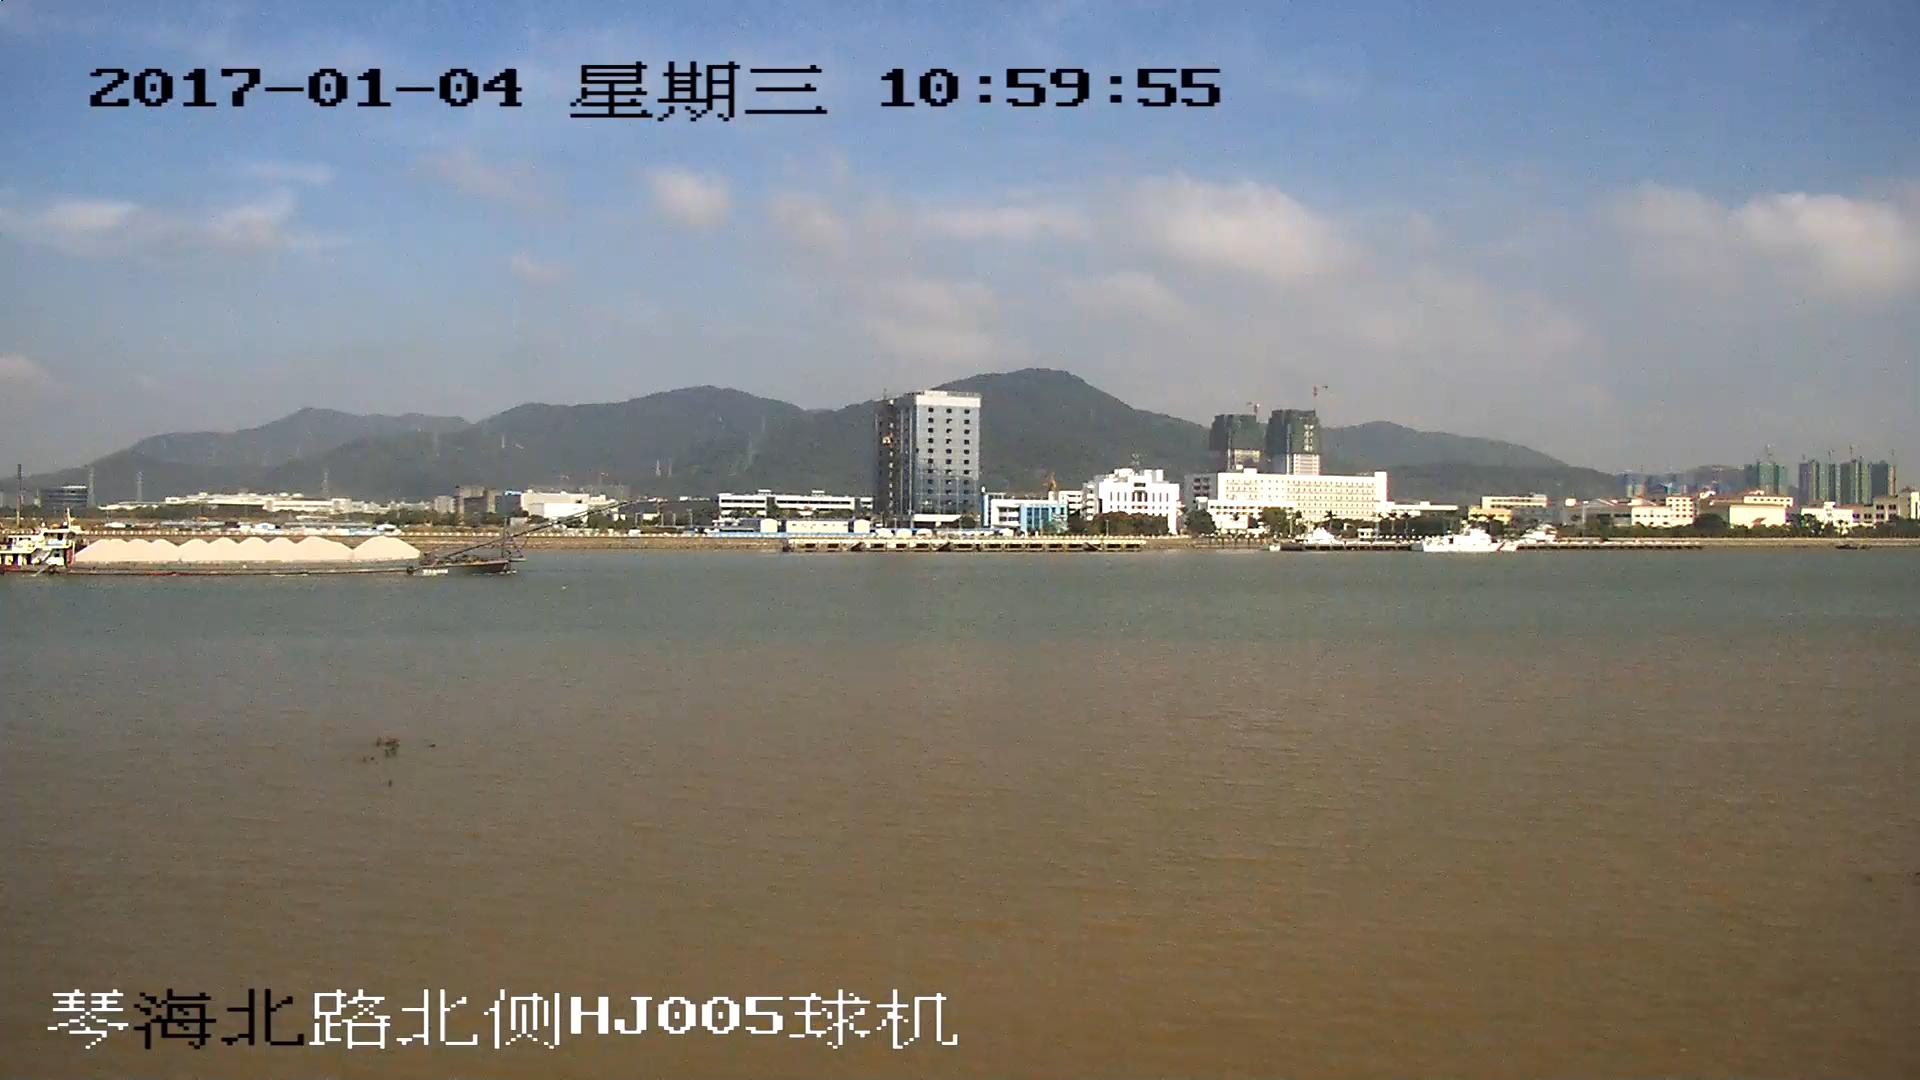ore carrier: (1, 500, 629, 579)
